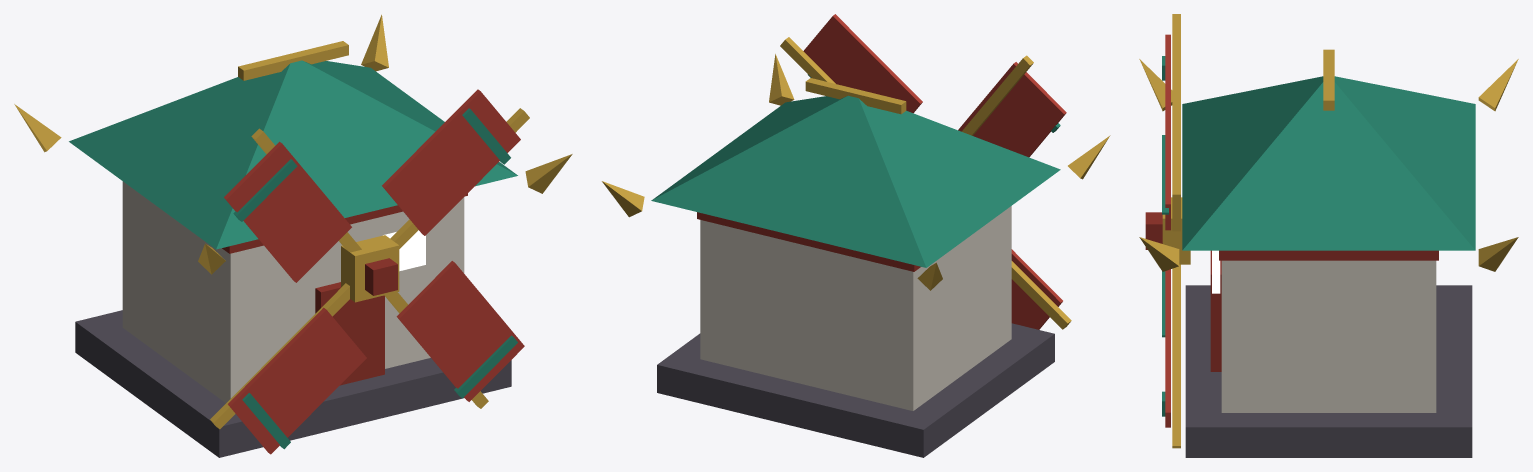
File: mill_t1.glb
3 views of the same model, side by side, from view 1: azimuth 30°, elevation 25°; view 2: azimuth 150°, elevation 25°; view 3: azimuth 270°, elevation 25° (orthographic). The views are drawn at different scales.
Visible parts, largest first — view 1: body, part_rotor, glow; view 2: body, part_rotor; view 3: body, part_rotor.
Boxes of the visible parts, x1=… form: body: x1=14, y1=14, x2=572, y2=457; part_rotor: x1=210, y1=89, x2=529, y2=454; glow: x1=383, y1=230, x2=425, y2=271; body: x1=602, y1=54, x2=1110, y2=457; part_rotor: x1=780, y1=14, x2=1071, y2=329; body: x1=1139, y1=49, x2=1518, y2=457; part_rotor: x1=1145, y1=14, x2=1190, y2=448.
Bounding box in the file's own units: 1.5 × 1.29 × 1.35.
